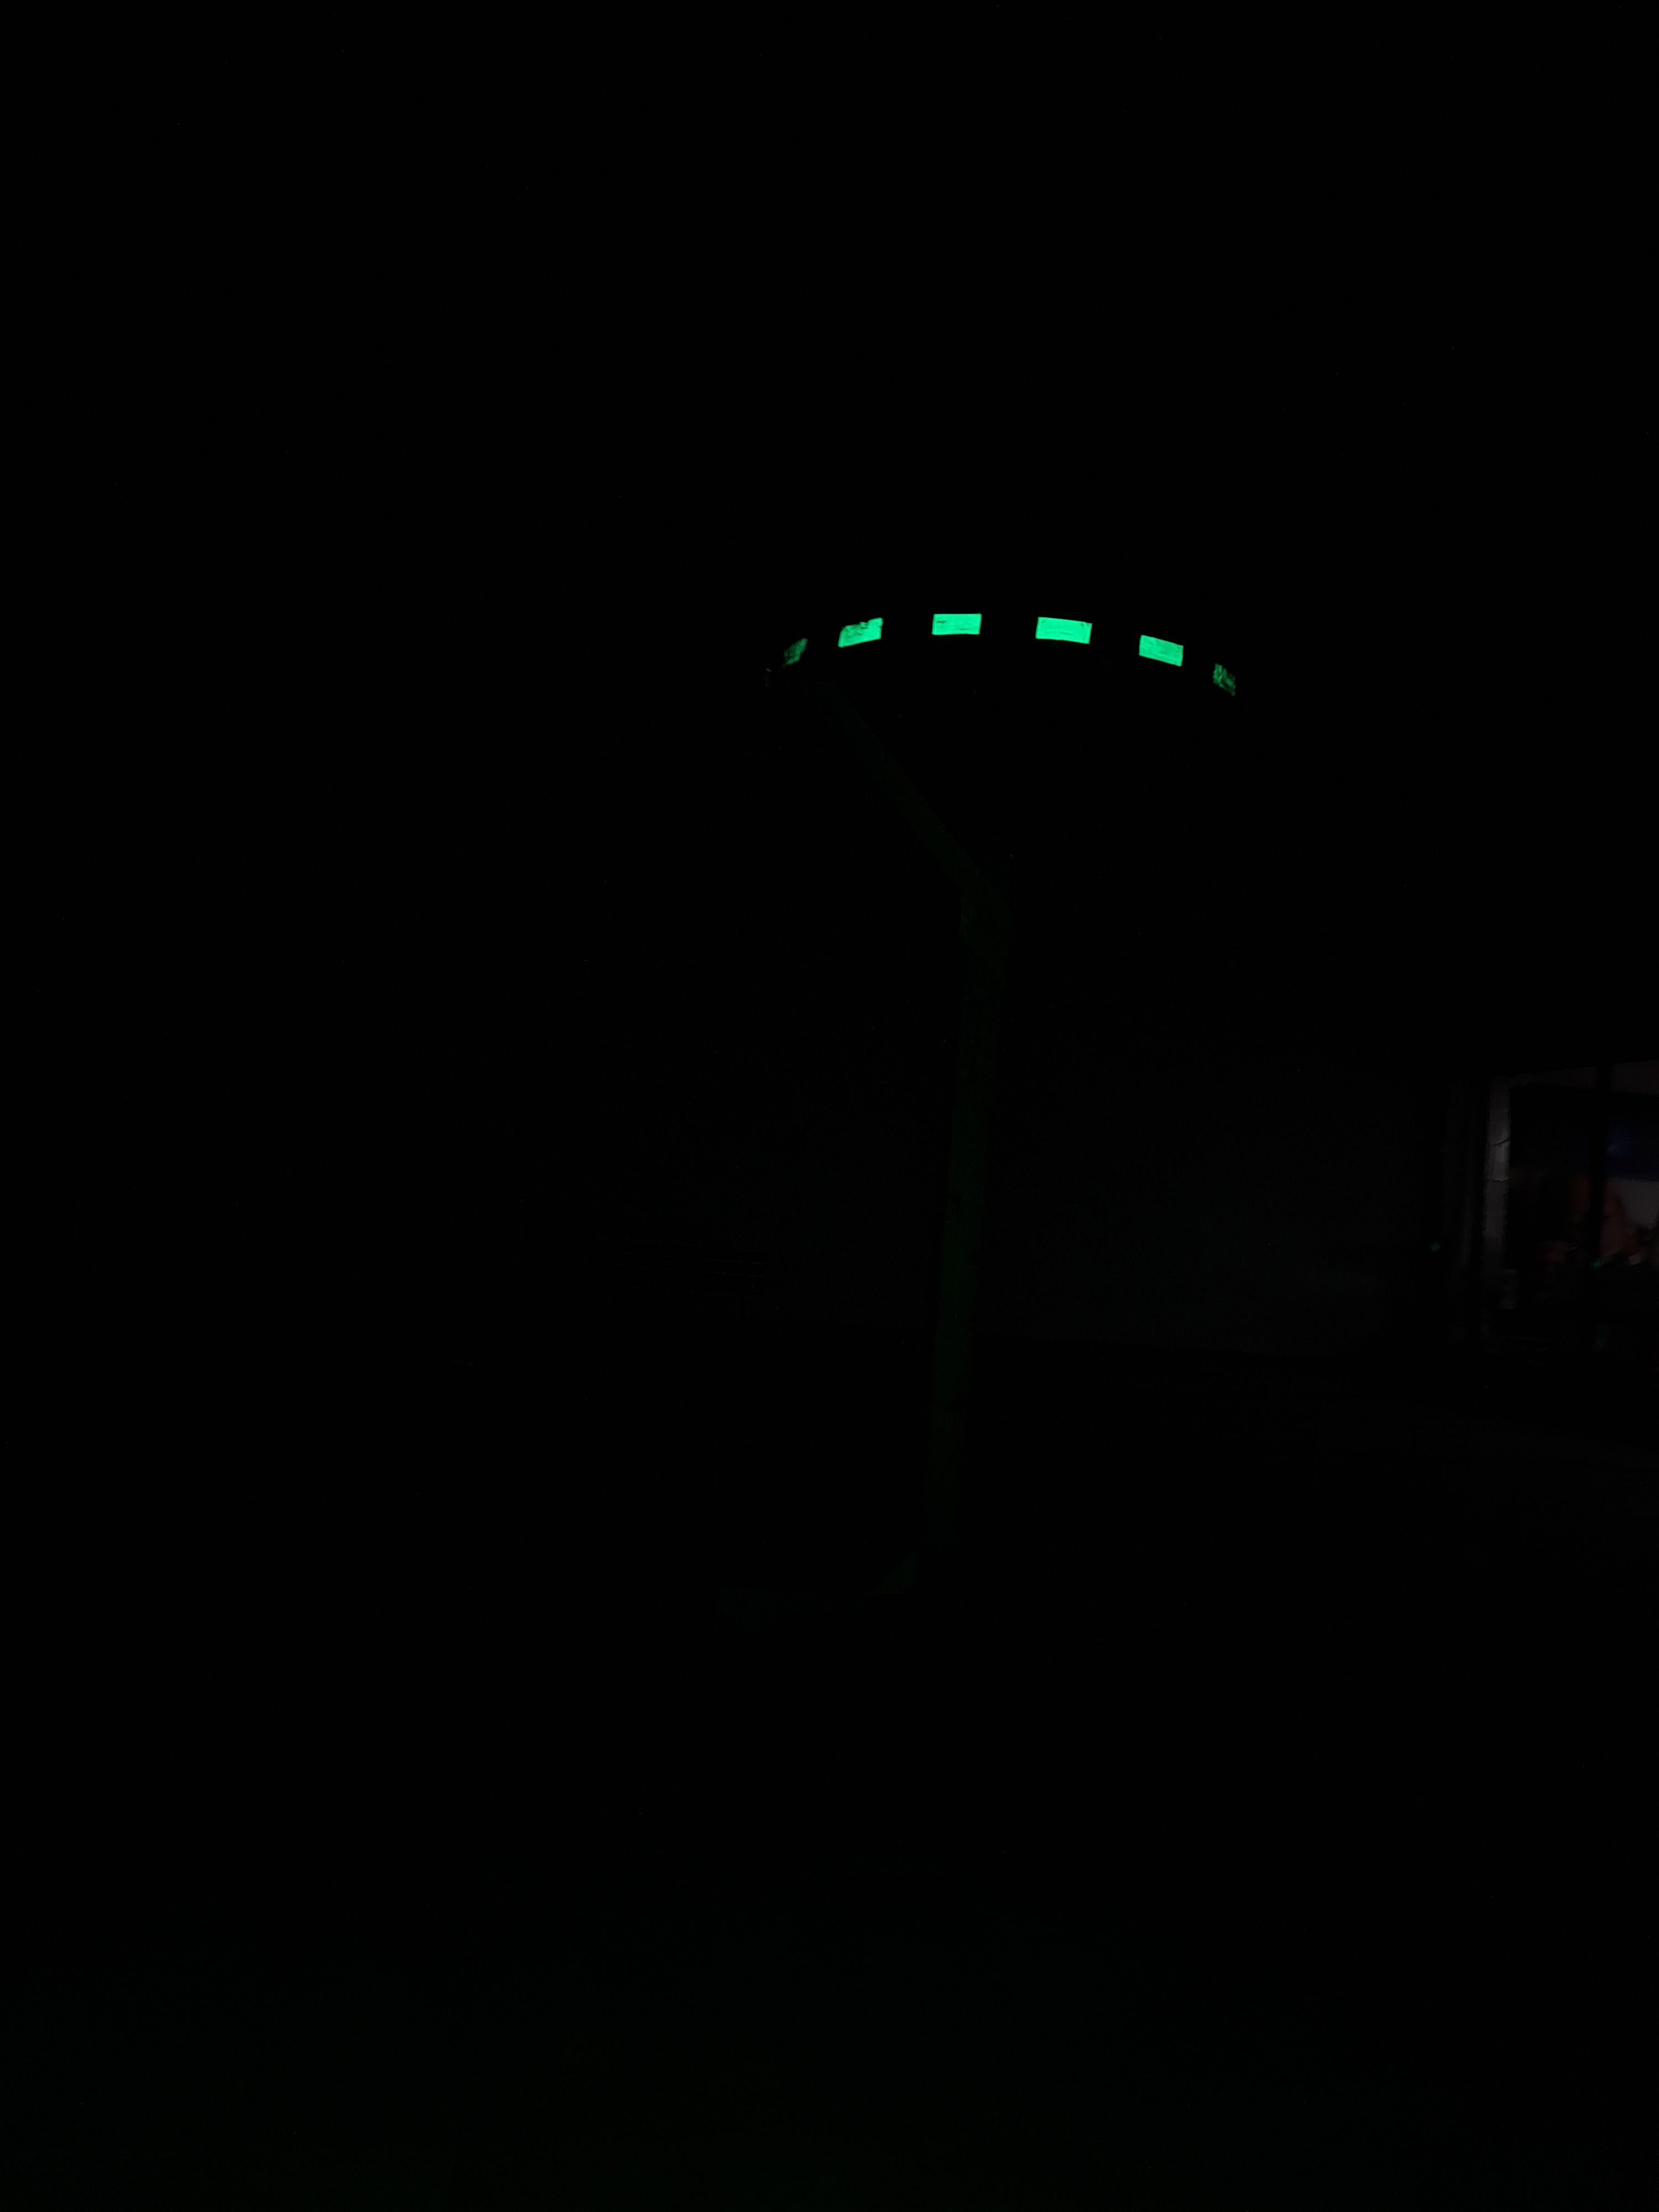hoop: (737, 594, 1260, 721)
